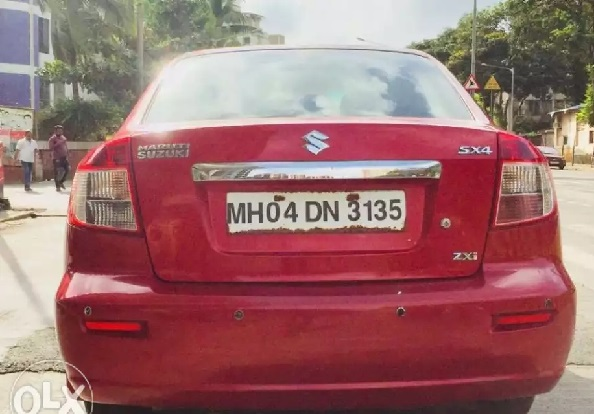licenseplate: (225, 187, 411, 236)
